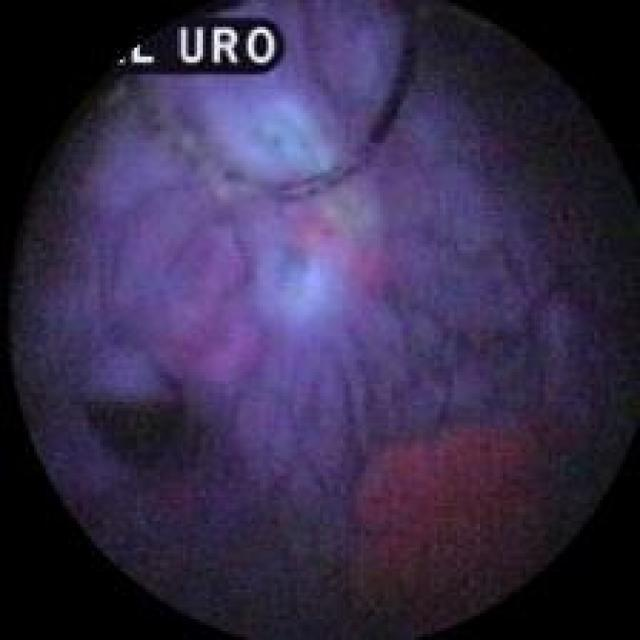color misalignment: (102, 17, 296, 80)
contrast: (448, 16, 626, 327), (93, 455, 330, 630)
instrument: (117, 0, 434, 208)
